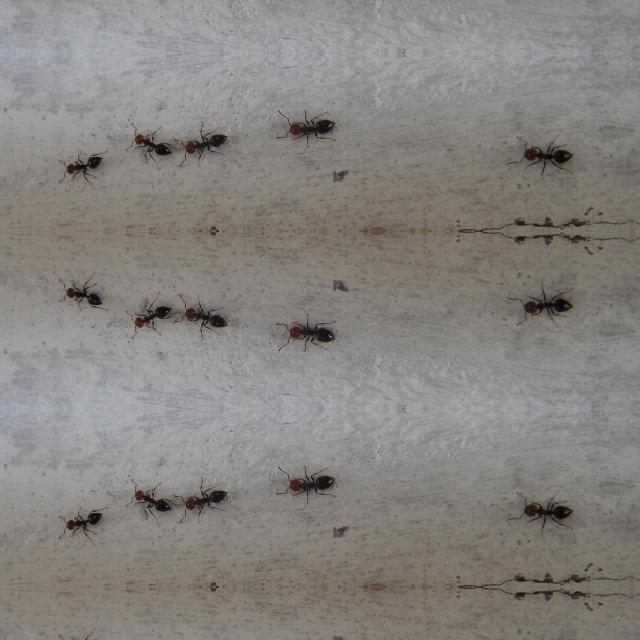Crematogaster: (510, 490, 574, 528), (510, 290, 574, 326), (510, 134, 574, 170), (280, 466, 336, 499), (178, 484, 226, 522), (280, 318, 336, 350), (280, 110, 336, 142), (178, 296, 226, 332), (178, 128, 226, 164), (129, 484, 171, 520), (129, 298, 171, 332), (129, 128, 171, 162), (58, 280, 104, 310), (58, 150, 104, 180), (58, 508, 104, 536)
